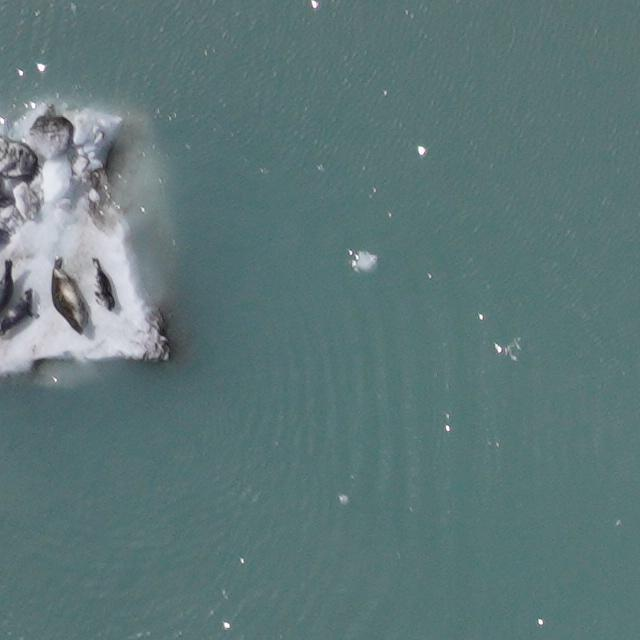seal: (38, 257, 93, 335), (0, 288, 45, 338), (83, 255, 119, 315), (0, 262, 15, 313)
